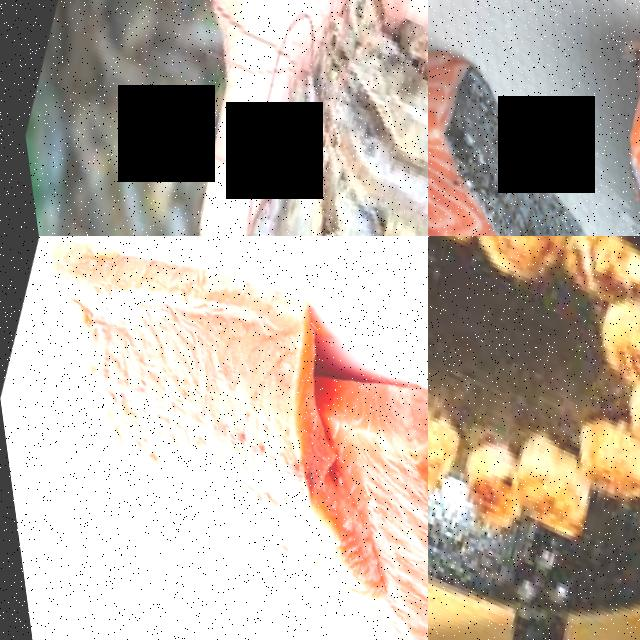salmon: (428, 15, 640, 236), (316, 336, 428, 640), (514, 0, 640, 236)
sea scallops: (488, 439, 590, 537), (552, 399, 640, 500), (436, 430, 516, 525), (574, 274, 640, 387), (604, 357, 640, 455)
shrimp: (299, 9, 428, 202), (175, 135, 372, 236), (303, 103, 428, 228), (176, 159, 306, 236), (270, 174, 428, 236)
